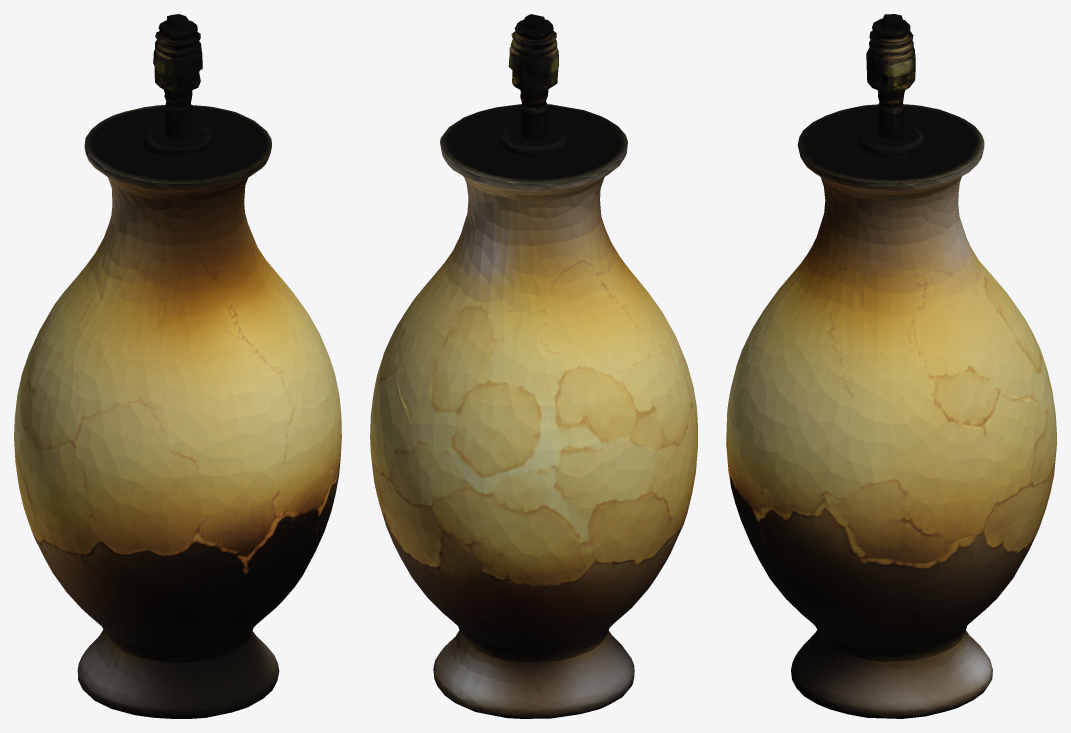
Rendered from porcelain-lamp-base-rustic.jpeg.glb.
3 views of the same model, side by side, from view 1: azimuth 30°, elevation 25°; view 2: azimuth 150°, elevation 25°; view 3: azimuth 270°, elevation 25° (orthographic).
Parts seen in each view (by area): view 1: world; view 2: world; view 3: world.
Part boxes in pixels (x1,y1,x2,y2): world: (14, 14, 341, 718); world: (370, 14, 697, 718); world: (726, 14, 1056, 718).
Size of the model in its own units: 0.4528 by 0.9978 by 0.4526.
Materials: 1 (1 with a texture image).
